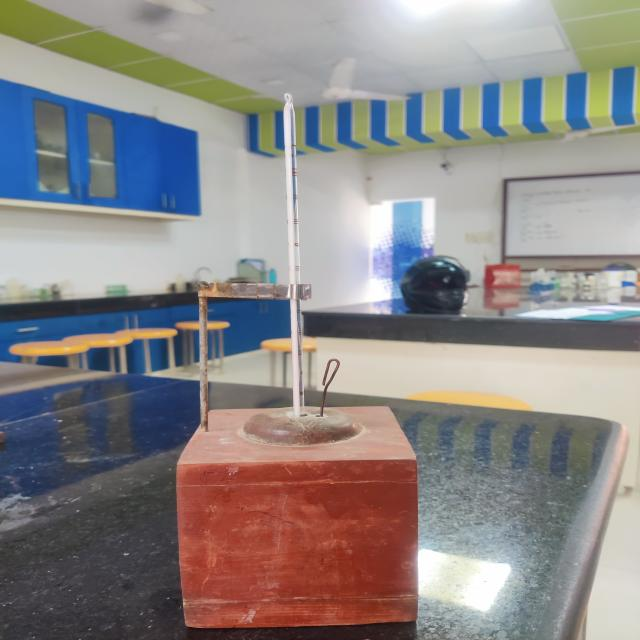Calorimeter: (136, 62, 459, 640)
